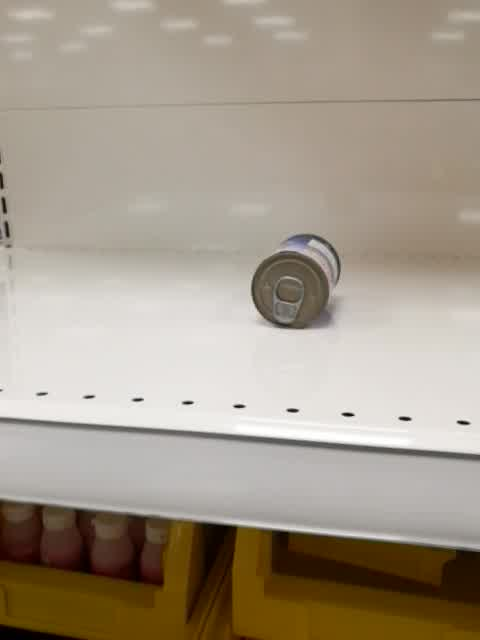sardine: (250, 233, 340, 329)
